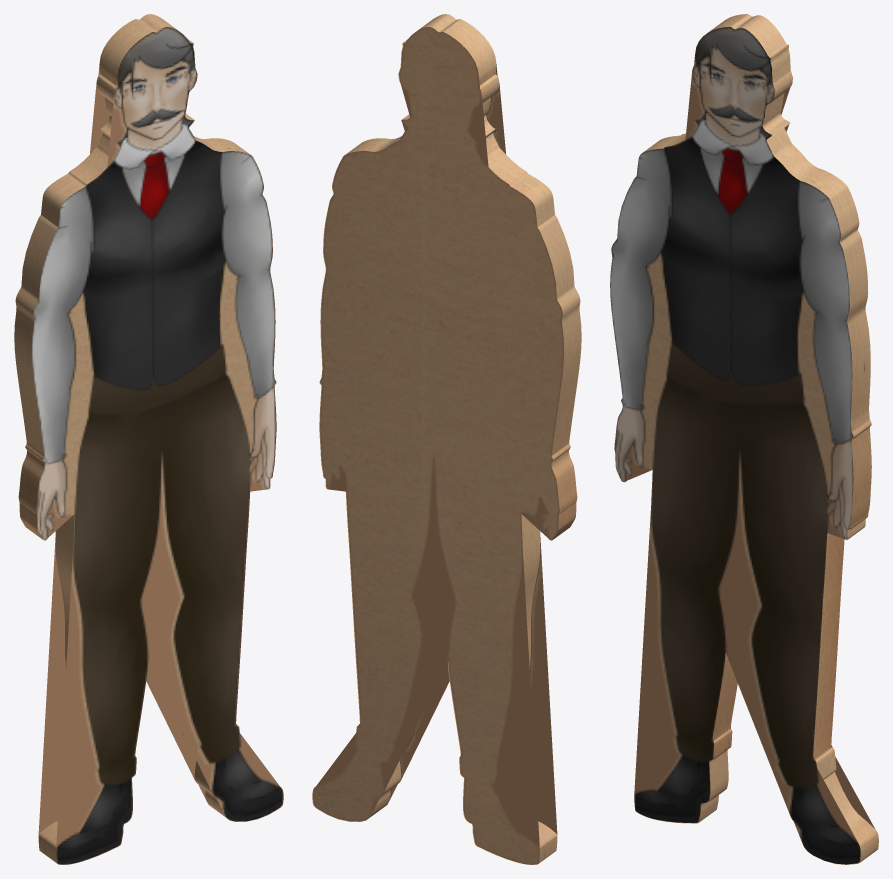
Rendered from Bartender.fbx.
The picture shows the model from 3 angles, left to right: view 1: azimuth 30°, elevation 25°; view 2: azimuth 150°, elevation 25°; view 3: azimuth 330°, elevation 25°; orthographic projection.
Visible parts, largest first — view 1: svgMesh1; view 2: svgMesh1; view 3: svgMesh1.
Part boxes in pixels (box(x1,y1,x2,y2)): svgMesh1: box(14, 14, 283, 864); svgMesh1: box(312, 14, 581, 864); svgMesh1: box(610, 14, 878, 864).
Bounding box in the file's own units: 6.38 × 19.73 × 0.7722.
Materials: 1 (1 with a texture image).
